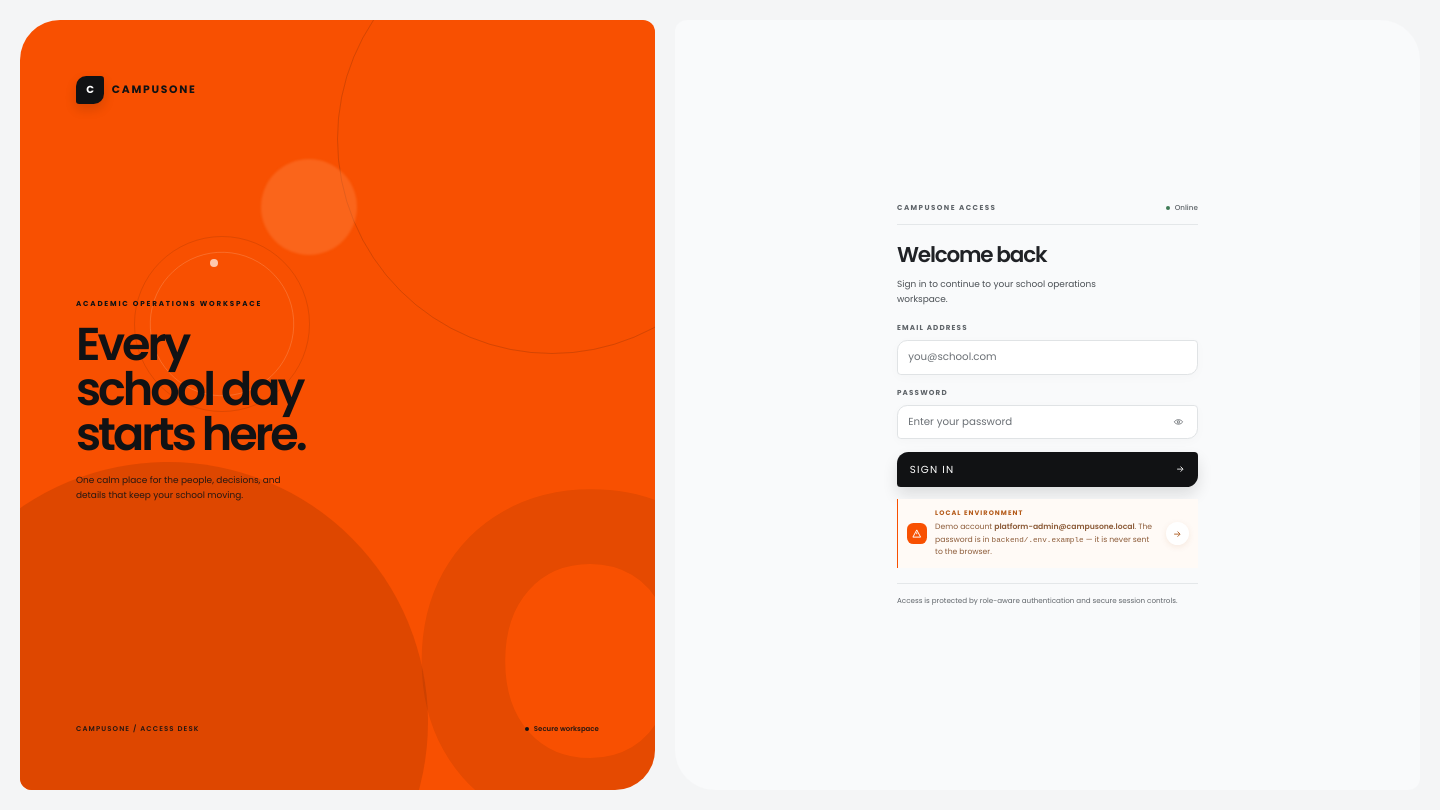
Test: LoginForm — server errors › dismisses the error when asked
Type "platform-admin@campusone.local" into the field labelled "Email address" at (1047, 357), box [897, 340, 1198, 375]
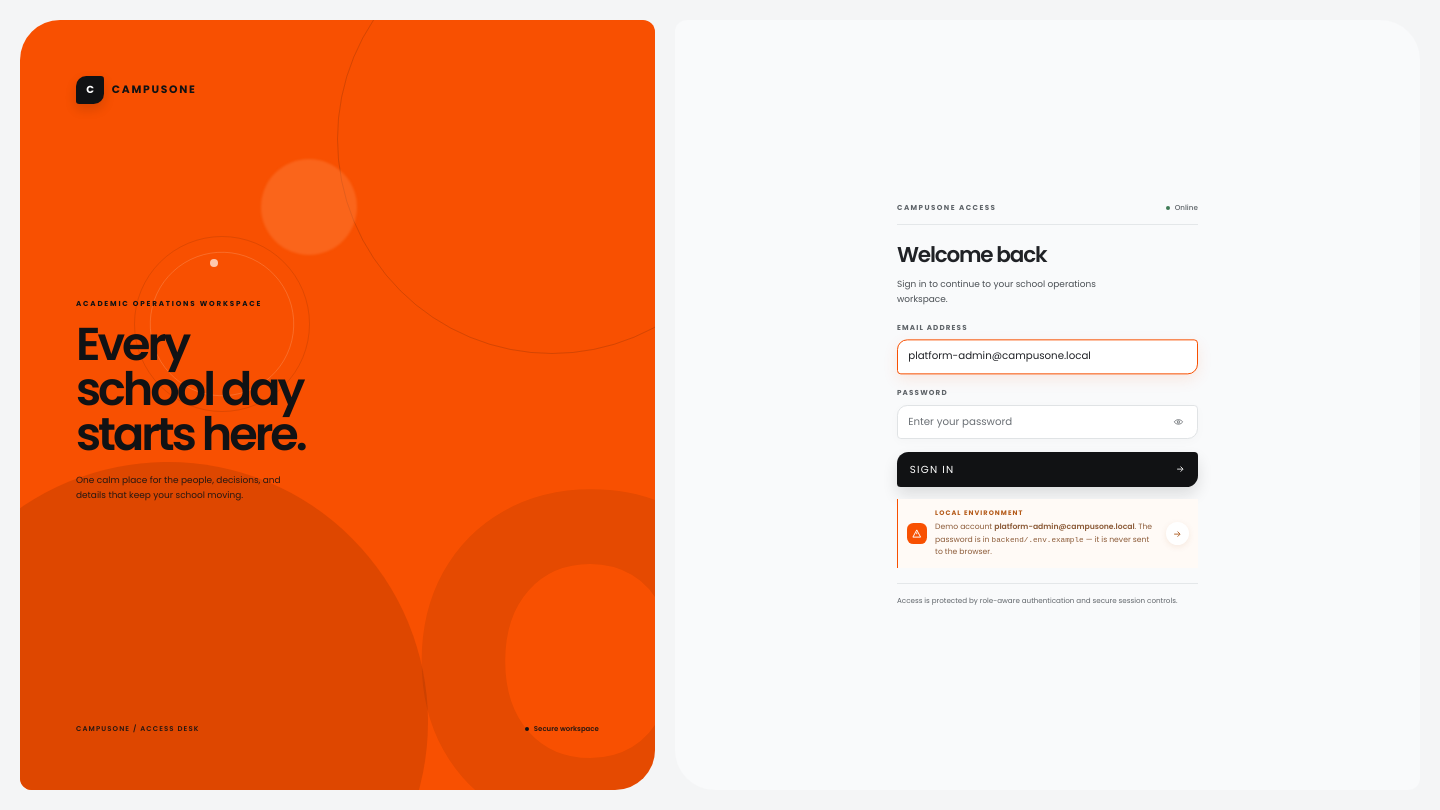
Type "CampusOneAdmin!2026" into the password field labelled "Password" at (1047, 422), box [897, 405, 1198, 439]
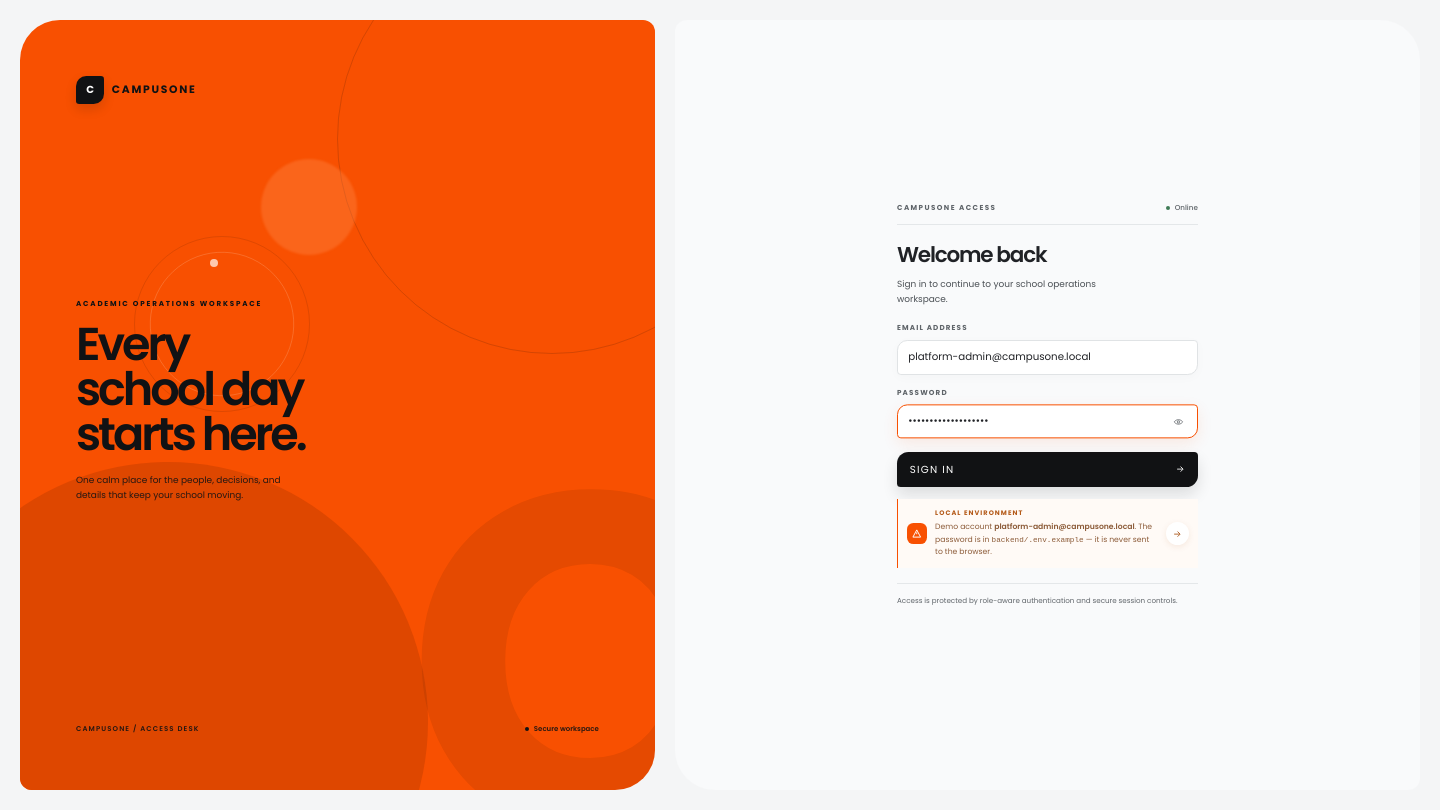
Click the button "Sign in" at (932, 469), box [897, 452, 1198, 486]
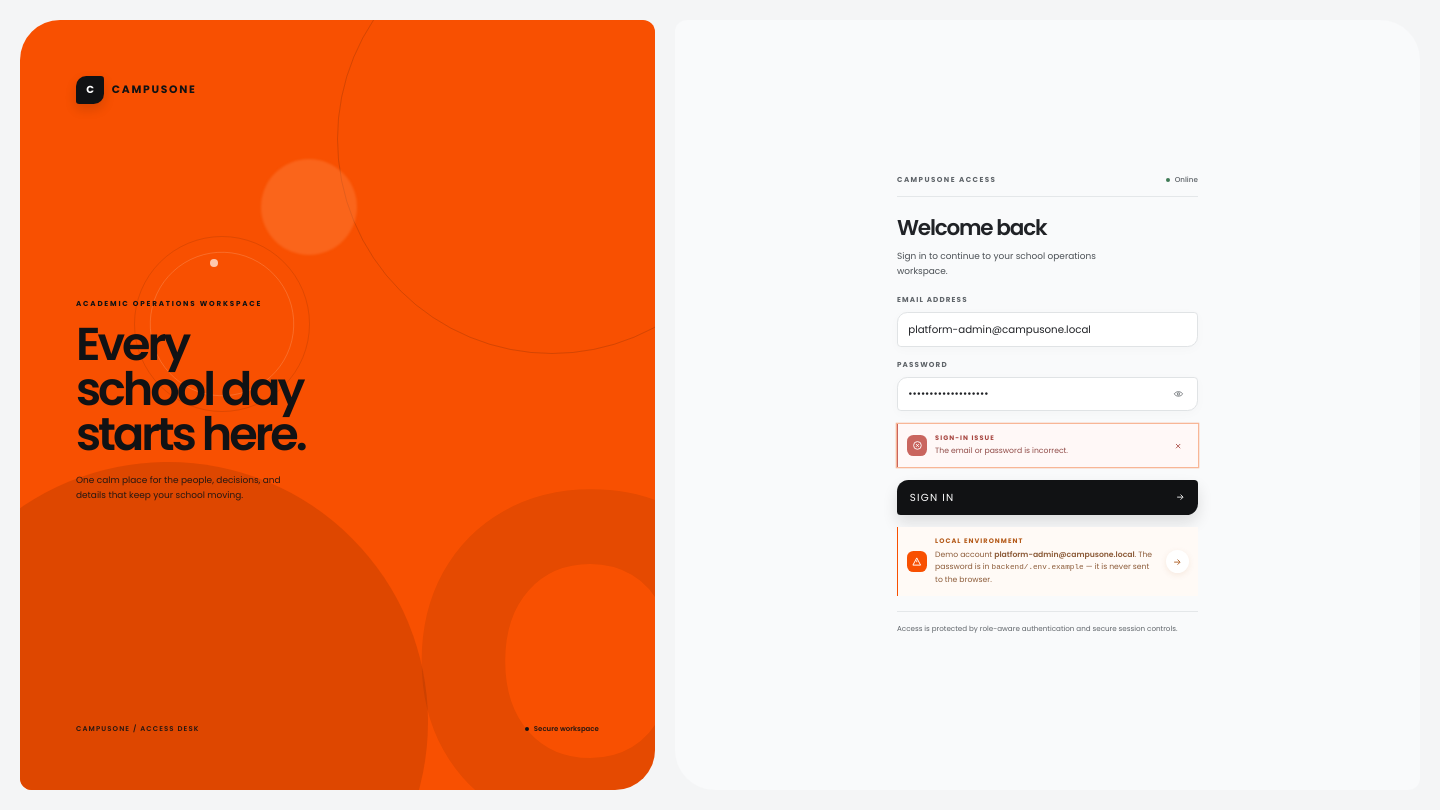
Click the button named "dismiss" at (1179, 446), box [1168, 435, 1189, 456]
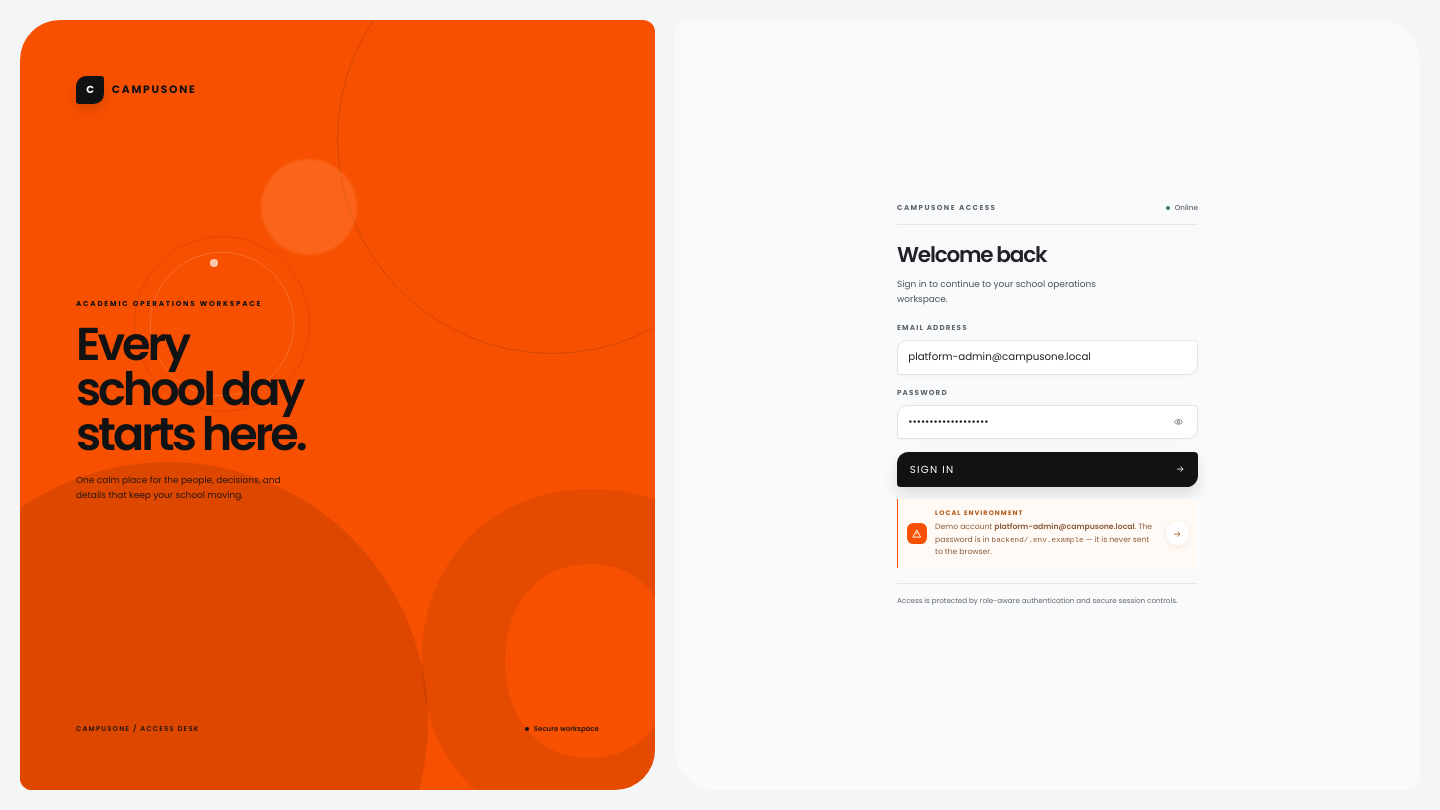
expect the message "Sign-in issue The email or password is incorrect." is gone: met
